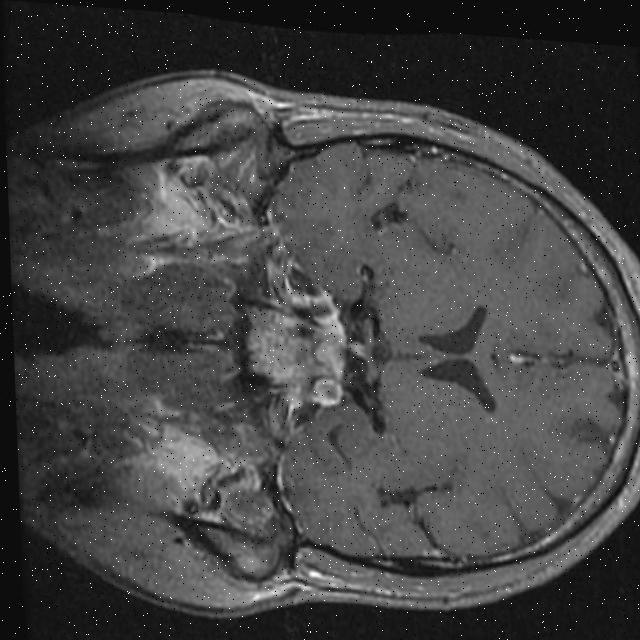Pituitary: (242, 302, 348, 407)
